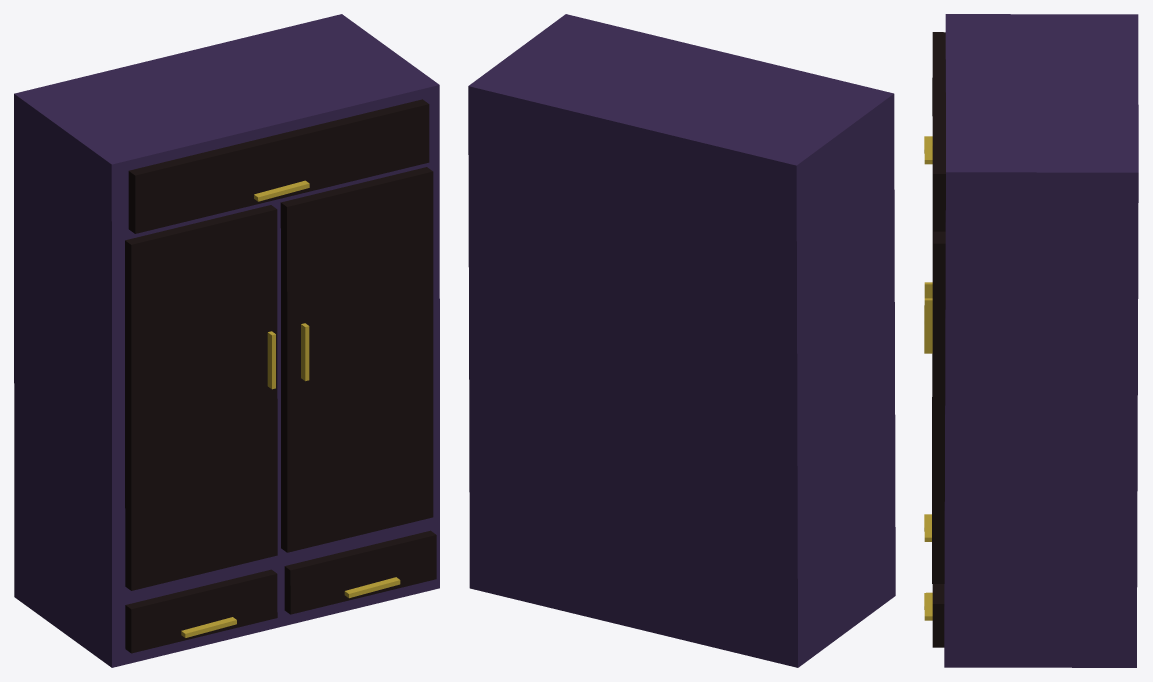
The model's file is Cupboard_4.fbx.
3 views of the same model, side by side, from view 1: azimuth 30°, elevation 25°; view 2: azimuth 150°, elevation 25°; view 3: azimuth 270°, elevation 25° (orthographic).
Visible parts, largest first — view 1: Cube.007; view 2: Cube.007; view 3: Cube.007.
Part boxes in pixels (left/top/right/bottom): Cube.007: left=14, top=14, right=439, bottom=667; Cube.007: left=468, top=14, right=895, bottom=667; Cube.007: left=924, top=14, right=1138, bottom=667.
Bounding box in the file's own units: 3.77 × 5.52 × 2.16.
